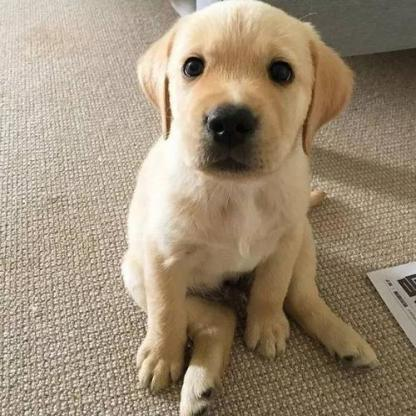dog: (111, 0, 376, 416)
